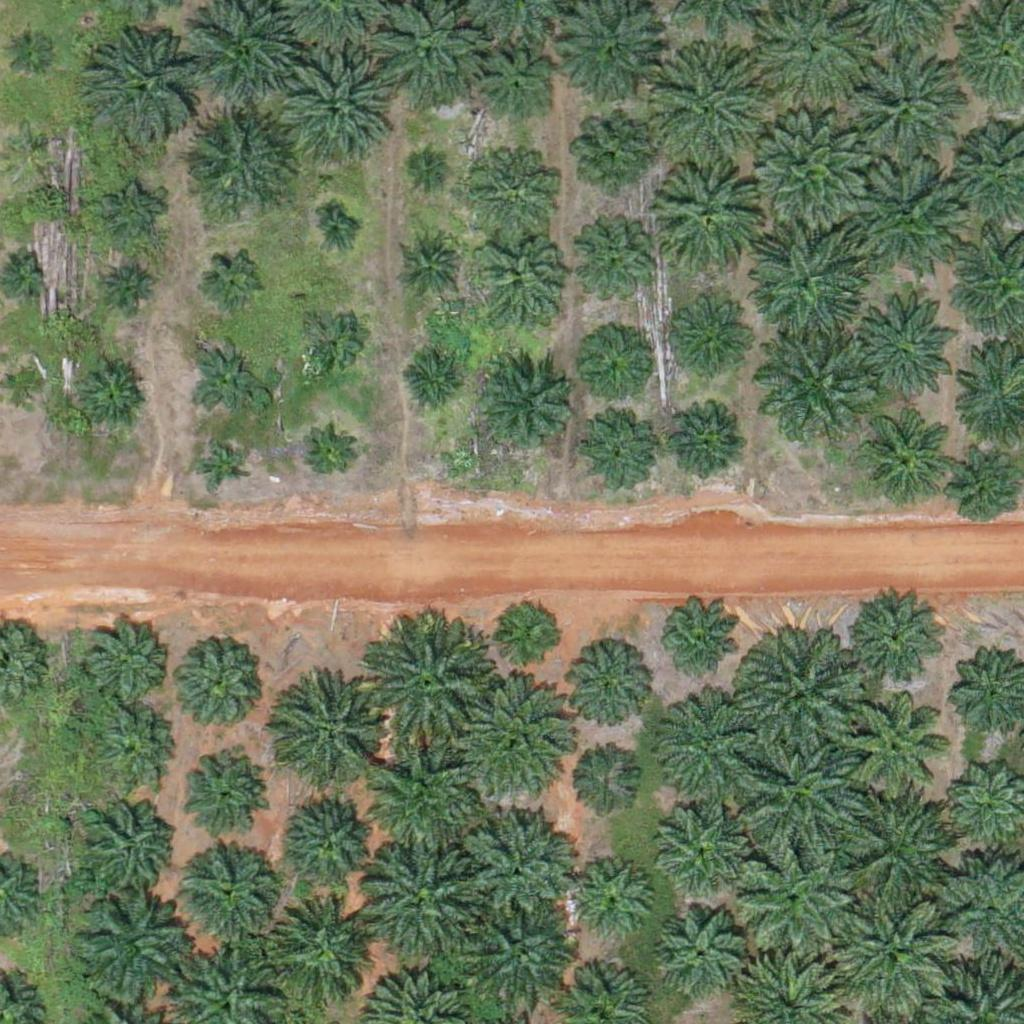Kelapa_Sawit: (837, 892, 962, 1018), (736, 632, 861, 758), (366, 627, 491, 753), (80, 25, 205, 151), (740, 726, 865, 851), (466, 682, 579, 796), (262, 895, 375, 1009), (741, 839, 854, 952), (655, 687, 768, 800), (369, 745, 482, 858), (360, 846, 473, 959), (844, 50, 957, 163), (757, 324, 870, 437), (647, 156, 760, 269), (275, 48, 388, 161), (179, 105, 292, 218), (73, 892, 185, 1006), (842, 792, 954, 905), (466, 897, 578, 1010), (461, 810, 573, 923), (853, 154, 965, 267), (849, 300, 961, 413), (752, 109, 864, 222), (748, 224, 860, 337), (650, 46, 762, 159), (849, 701, 949, 802), (847, 590, 947, 691), (284, 788, 384, 889), (168, 632, 268, 733), (473, 355, 573, 456), (279, 686, 379, 786), (181, 842, 281, 942), (77, 795, 177, 895), (563, 644, 651, 733), (654, 802, 742, 890), (564, 856, 652, 944), (175, 748, 263, 836), (857, 412, 945, 500), (468, 146, 556, 234), (476, 240, 564, 328), (655, 598, 742, 686), (656, 906, 743, 994), (95, 703, 182, 791), (83, 620, 170, 708), (662, 293, 749, 381), (576, 116, 651, 192), (565, 749, 640, 825), (670, 409, 745, 485), (578, 231, 653, 307), (581, 413, 656, 489), (474, 49, 549, 125), (73, 357, 148, 432), (189, 339, 264, 414), (578, 336, 641, 399), (402, 354, 465, 417), (499, 601, 562, 664), (297, 309, 360, 372), (952, 453, 1015, 516), (101, 182, 163, 245), (205, 251, 267, 314), (303, 431, 353, 482), (107, 260, 157, 311), (196, 440, 246, 491), (5, 20, 55, 71), (4, 117, 54, 168), (405, 239, 455, 289), (413, 150, 451, 188), (318, 212, 355, 250)
